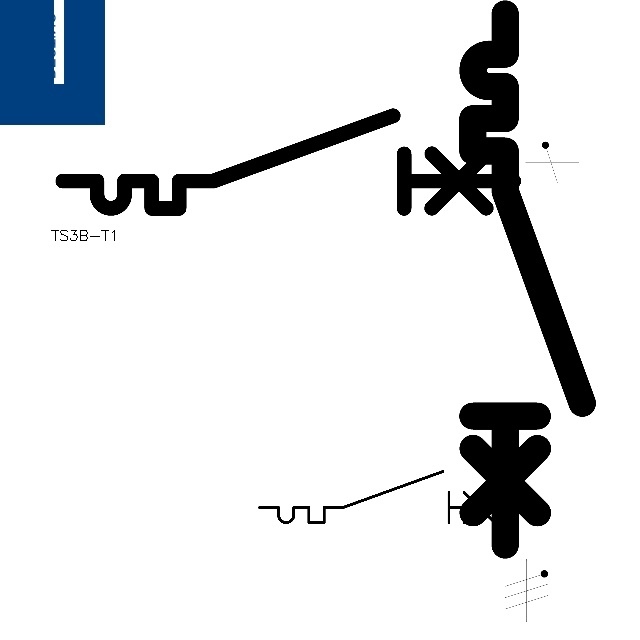interruptor_termomagnetico: (459, 0, 596, 558), (51, 104, 525, 220), (253, 465, 516, 529)
